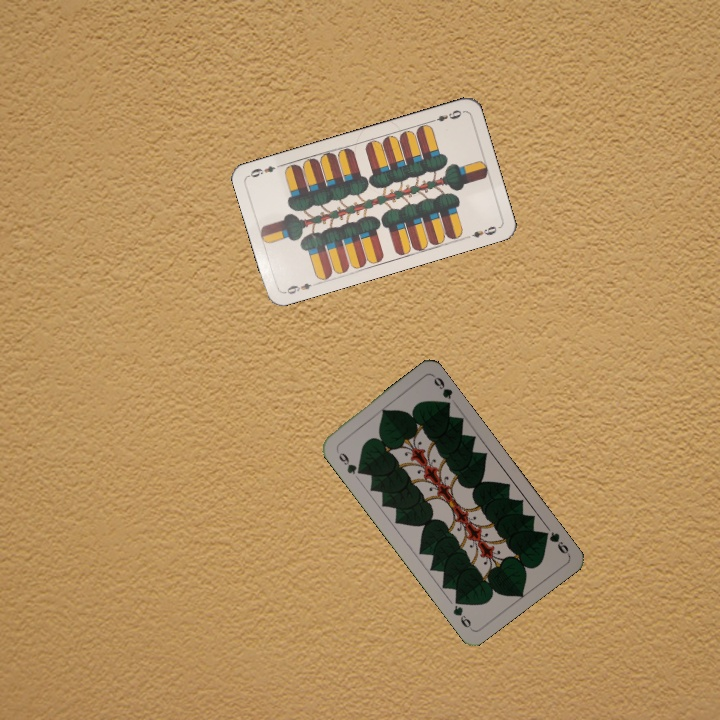E9: (280, 278, 320, 297), (426, 106, 464, 125)
G9: (332, 445, 365, 477), (537, 527, 572, 557)
